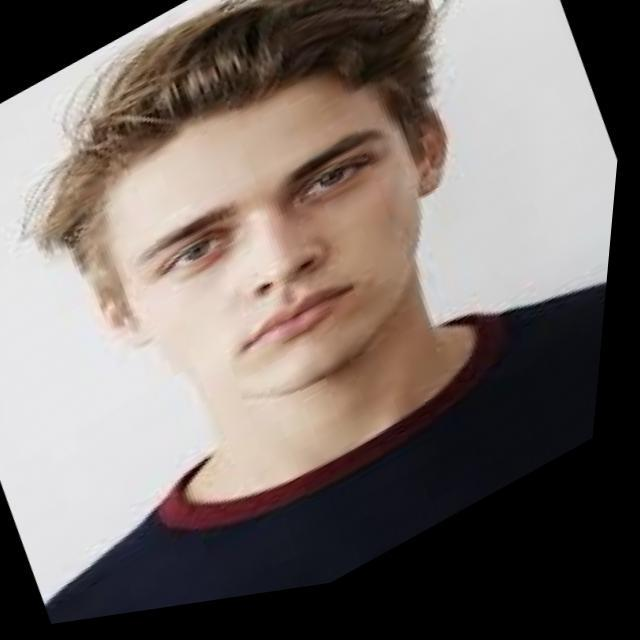Nonhelmet: (24, 0, 464, 409)
